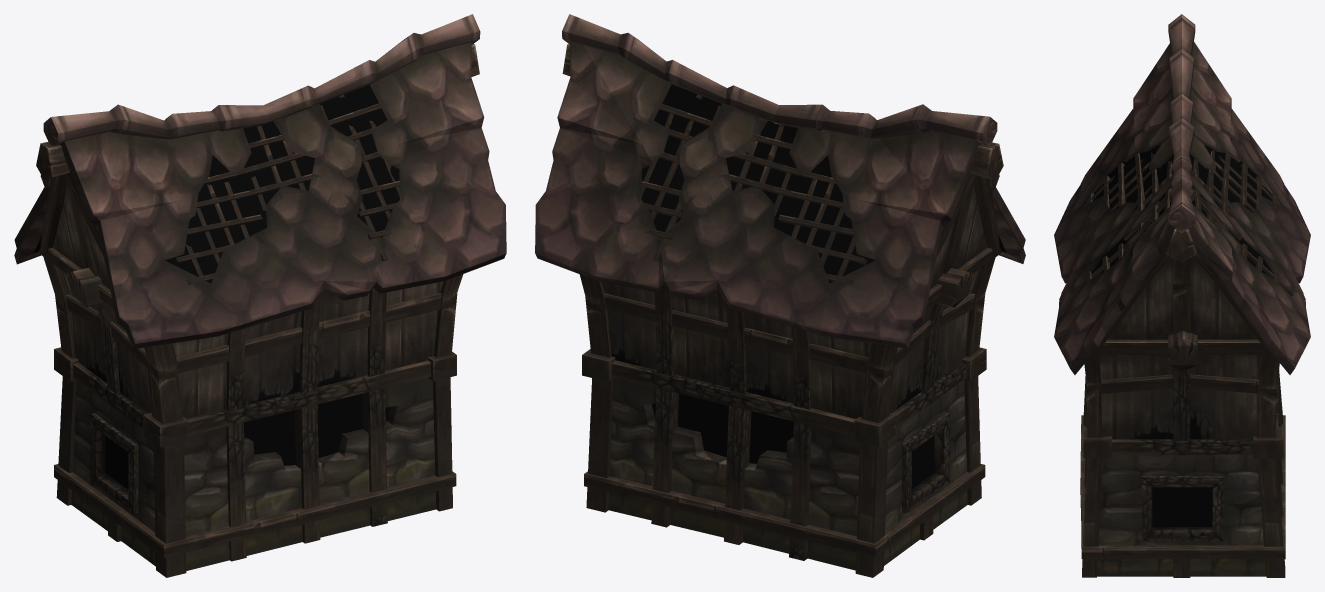
The model's file is mod_building_damaged_01_a.fbx.
3 views of the same model, side by side, from view 1: azimuth 30°, elevation 25°; view 2: azimuth 150°, elevation 25°; view 3: azimuth 270°, elevation 25° (orthographic). The views are drawn at different scales.
Visible parts, largest first — view 1: obj1.093; view 2: obj1.093; view 3: obj1.093.
Part boxes in pixels (x1=…): obj1.093: x1=14, y1=14, x2=506, y2=577; obj1.093: x1=535, y1=14, x2=1025, y2=577; obj1.093: x1=1054, y1=14, x2=1310, y2=577.
Size of the model in its own units: 14.22 by 13.87 by 7.96.
